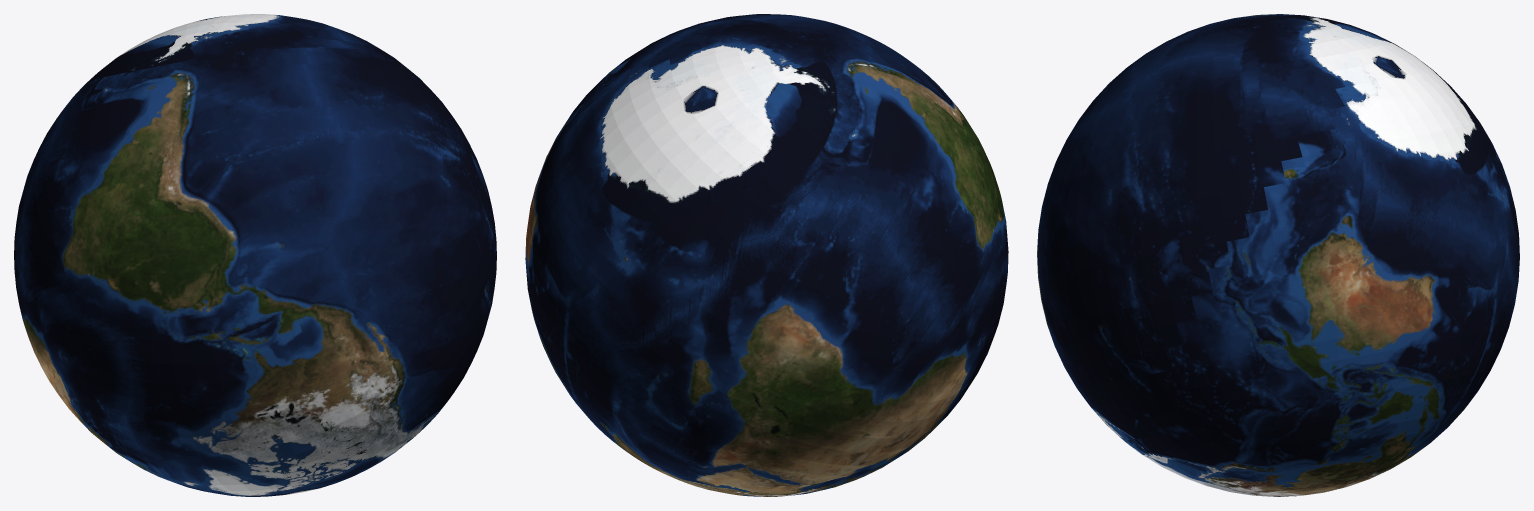
The model's file is earth_1.obj.
3 renders of one model, left to right at view 1: azimuth 30°, elevation 25°; view 2: azimuth 150°, elevation 25°; view 3: azimuth 270°, elevation 25°, orthographic.
Visible parts, largest first — view 1: Sphere_Sphere.001; view 2: Sphere_Sphere.001; view 3: Sphere_Sphere.001.
Boxes of the visible parts, bbox=[...] form: Sphere_Sphere.001: bbox=[14, 14, 496, 496]; Sphere_Sphere.001: bbox=[525, 14, 1008, 496]; Sphere_Sphere.001: bbox=[1037, 14, 1519, 496].
Bounding box in the file's own units: 12.73 × 12.74 × 12.74.
